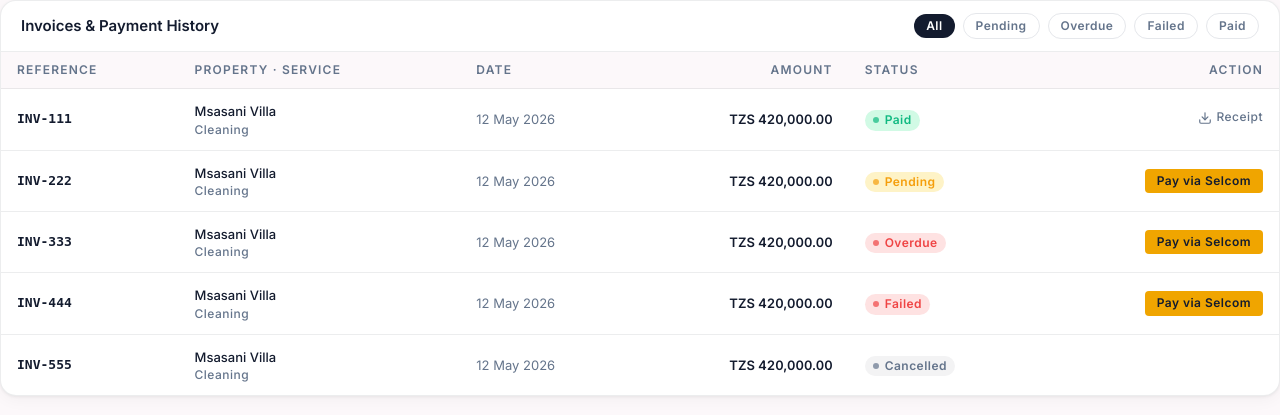
Test: OwnerInvoicesClient › filters to OVERDUE only when Overdue pill clicked
Click the button "Overdue". click: (1087, 26)
box: [1048,13,1126,39]
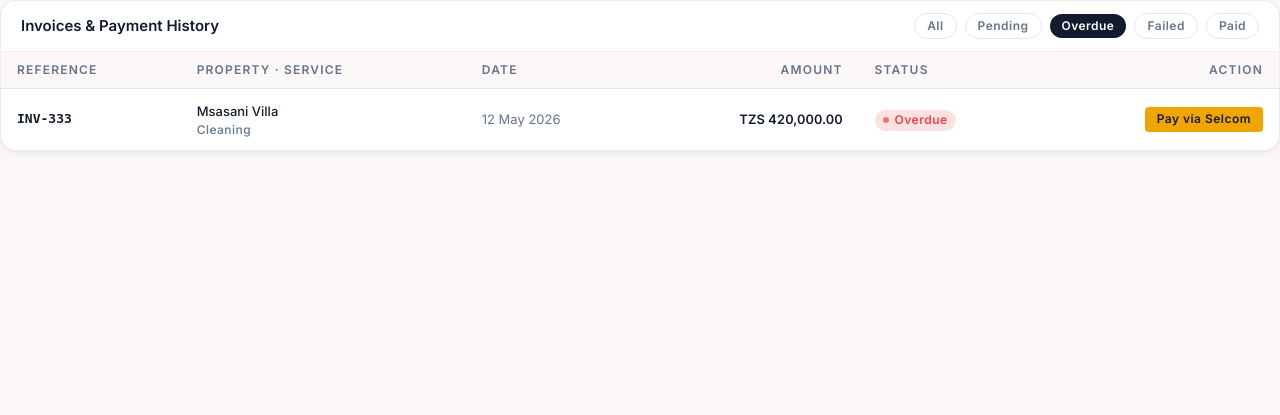
Check: the text "INV-333" is shown, box [1,89,181,150]
Check: the text "INV-222" is gone
